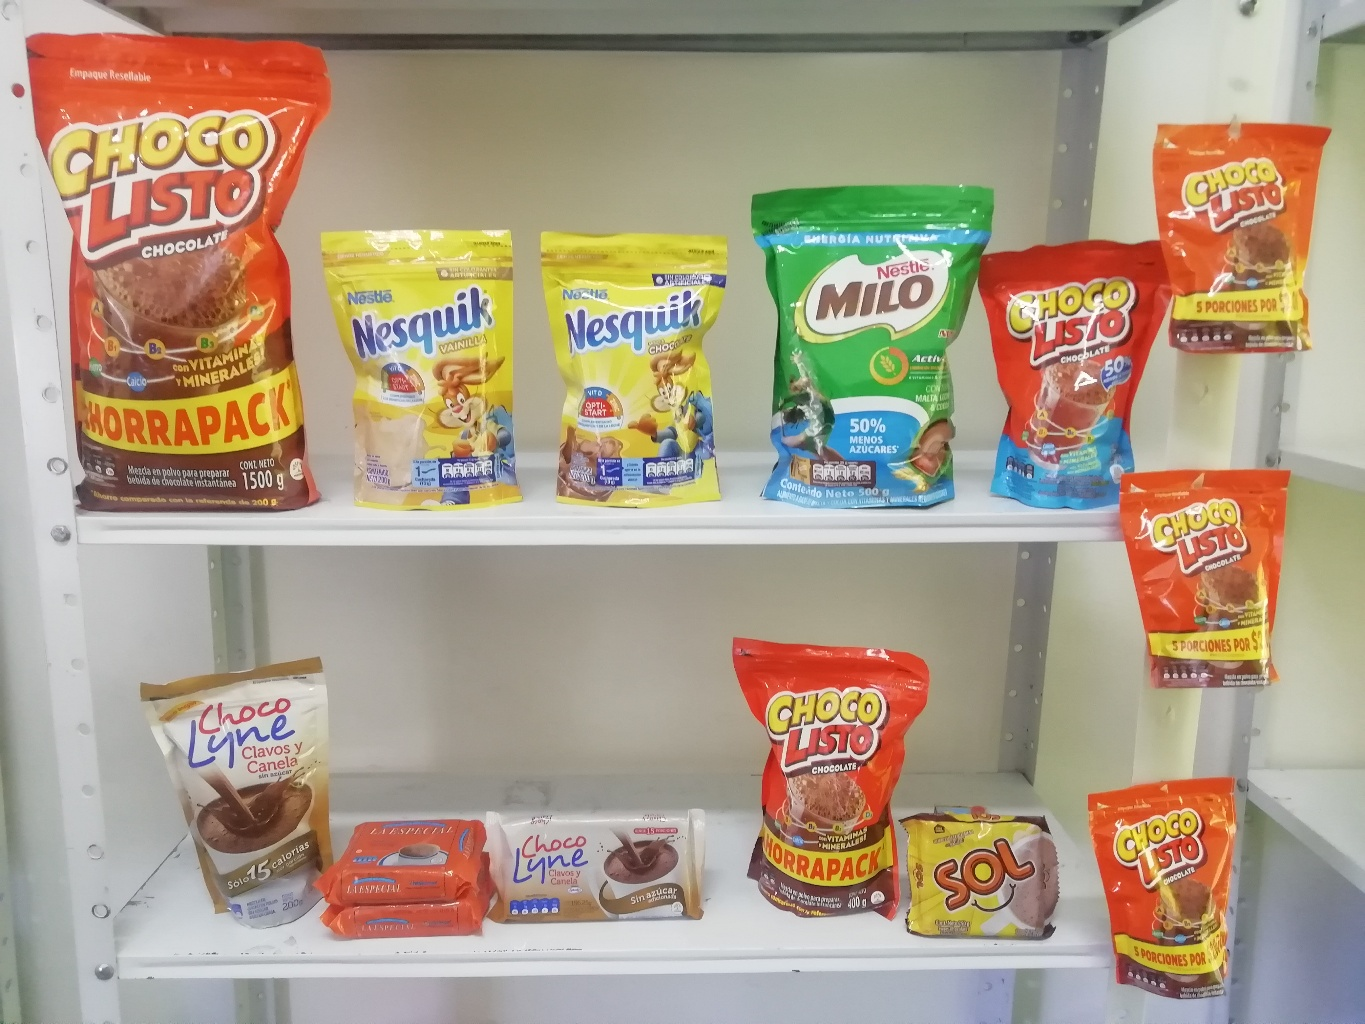COL0170103DYP1,500: (23, 33, 329, 514)
COL0170103DYP10000: (1154, 120, 1333, 357)
COL0170103DYP40000: (731, 629, 932, 920)
COL0170104DYP20000: (973, 245, 1181, 506)
COL0170205DYP50000: (753, 186, 994, 512)
COL0170303DYP20000: (538, 227, 729, 510)
COL0170306DYP20000: (321, 227, 517, 512)
